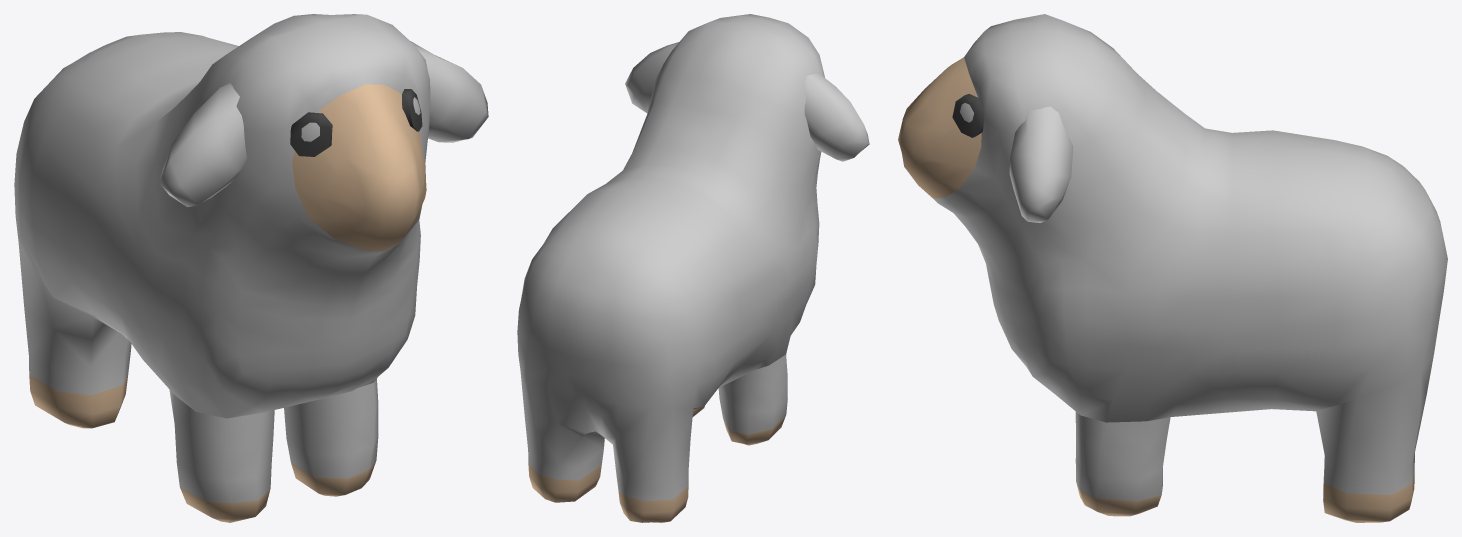
The model's file is Sheep_01.fbx.
3 views of the same model, side by side, from view 1: azimuth 30°, elevation 25°; view 2: azimuth 150°, elevation 25°; view 3: azimuth 270°, elevation 25° (orthographic). The views are drawn at different scales.
Visible parts, largest first — view 1: Sheep_01; view 2: Sheep_01; view 3: Sheep_01.
Boxes of the visible parts, bbox=[...] form: Sheep_01: bbox=[14, 14, 488, 522]; Sheep_01: bbox=[517, 14, 869, 522]; Sheep_01: bbox=[898, 14, 1447, 522].
Size of the model in its own units: 0.1895 by 0.2833 by 0.3068.
